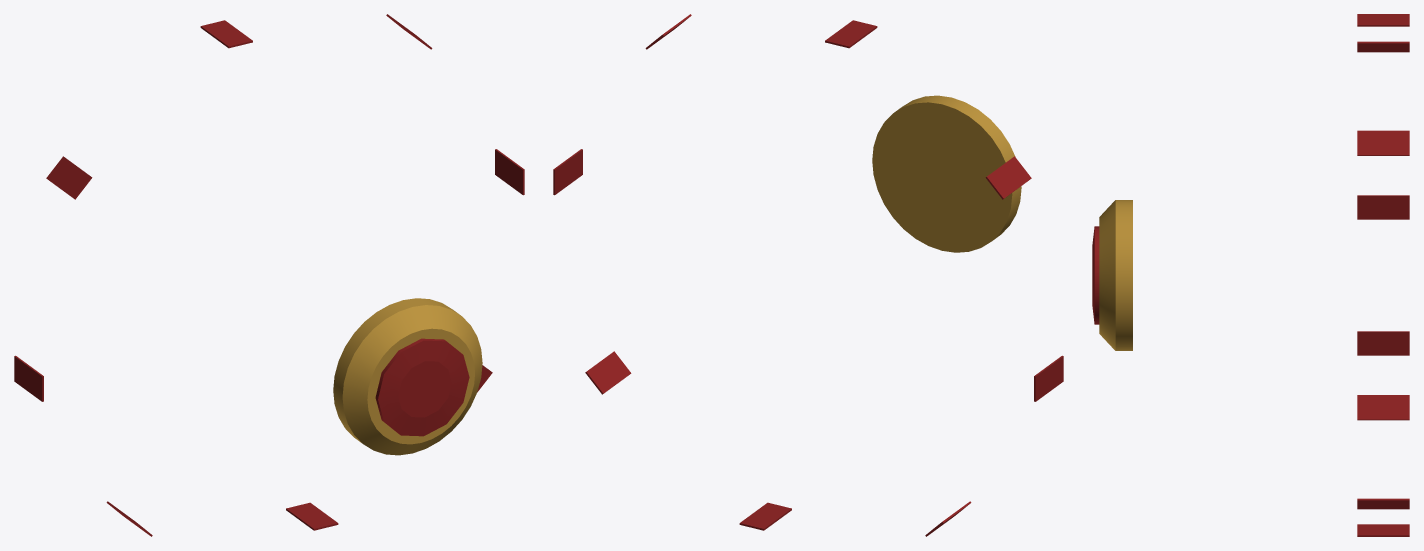
The model's file is h12_seal.obj.
3 renders of one model, left to right at view 1: azimuth 30°, elevation 25°; view 2: azimuth 150°, elevation 25°; view 3: azimuth 270°, elevation 25°, orthographic. The views are drawn at different scales.
Visible parts, largest first — view 1: h12_seal; view 2: h12_seal; view 3: h12_seal.
Part boxes in pixels (box(x1,y1,x2,y2)): h12_seal: box(14, 14, 524, 536); h12_seal: box(553, 14, 1063, 536); h12_seal: box(1092, 14, 1409, 536).
Size of the model in its own units: 2.84 by 2.84 by 1.73.
